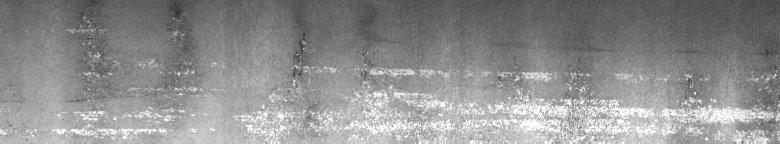hc: (67, 12, 196, 132)
